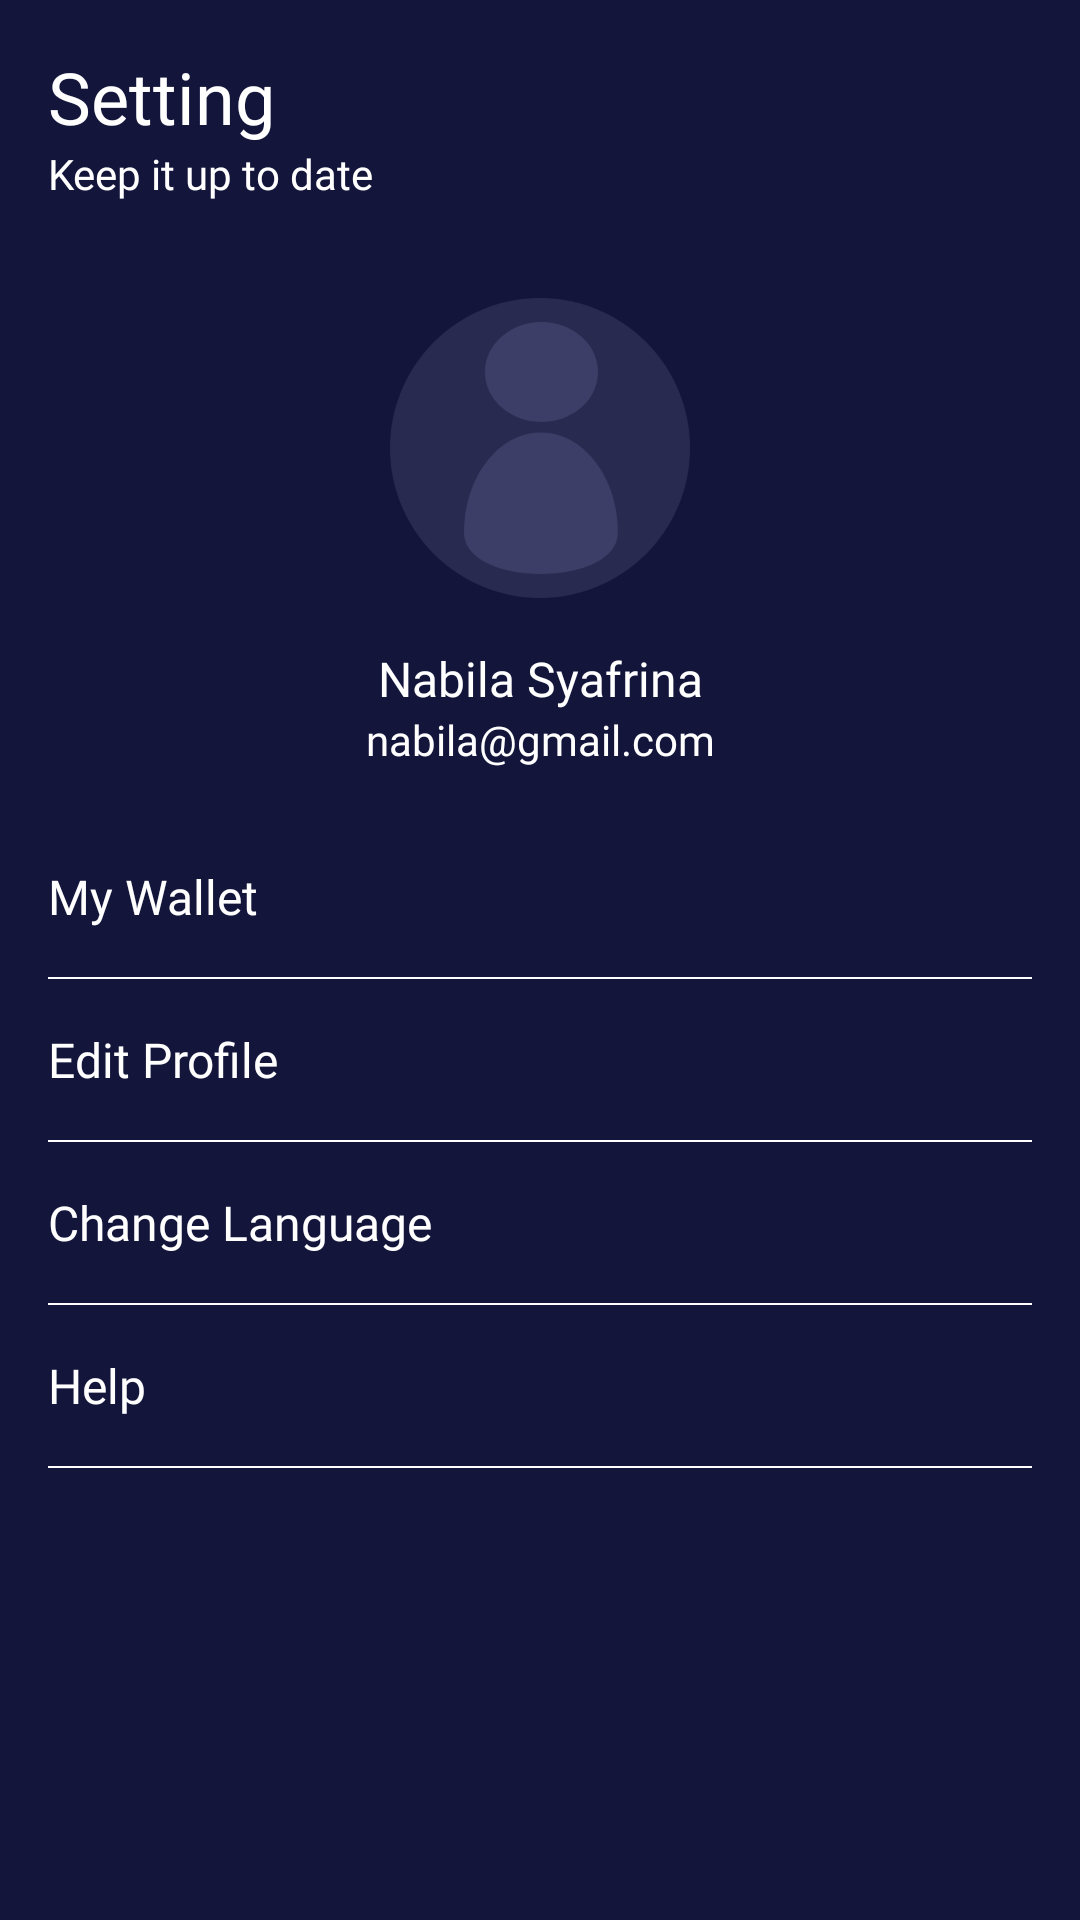

Icons on this 1080*1920 Android screen, each with its box as [x1, y1, x2, y2]:
user pic: [464, 322, 618, 574]
